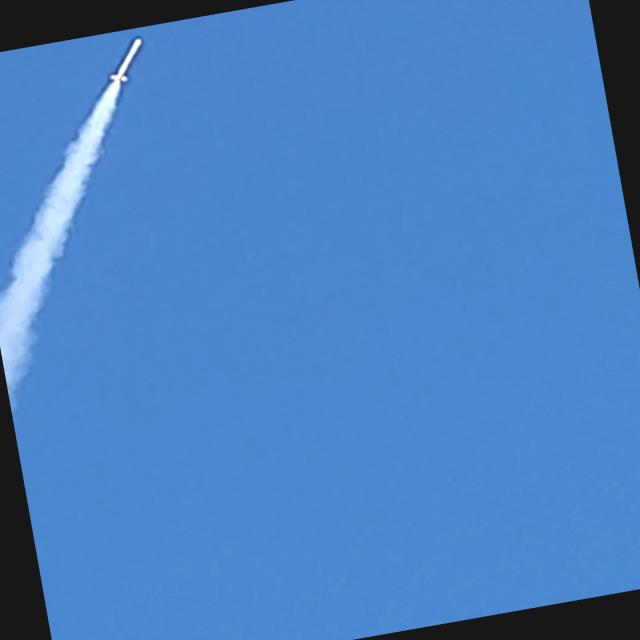rocket: (109, 35, 143, 89)
